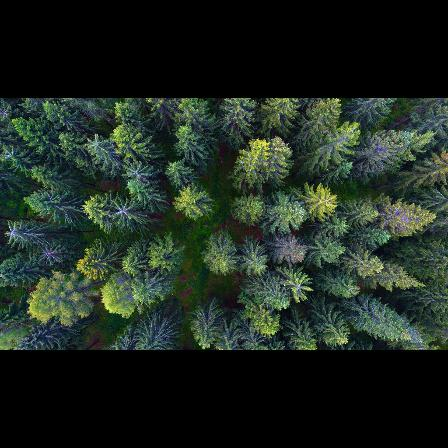Sick: (118, 156, 151, 183), (110, 196, 136, 224), (2, 221, 28, 246), (39, 241, 63, 261), (0, 101, 14, 124)
